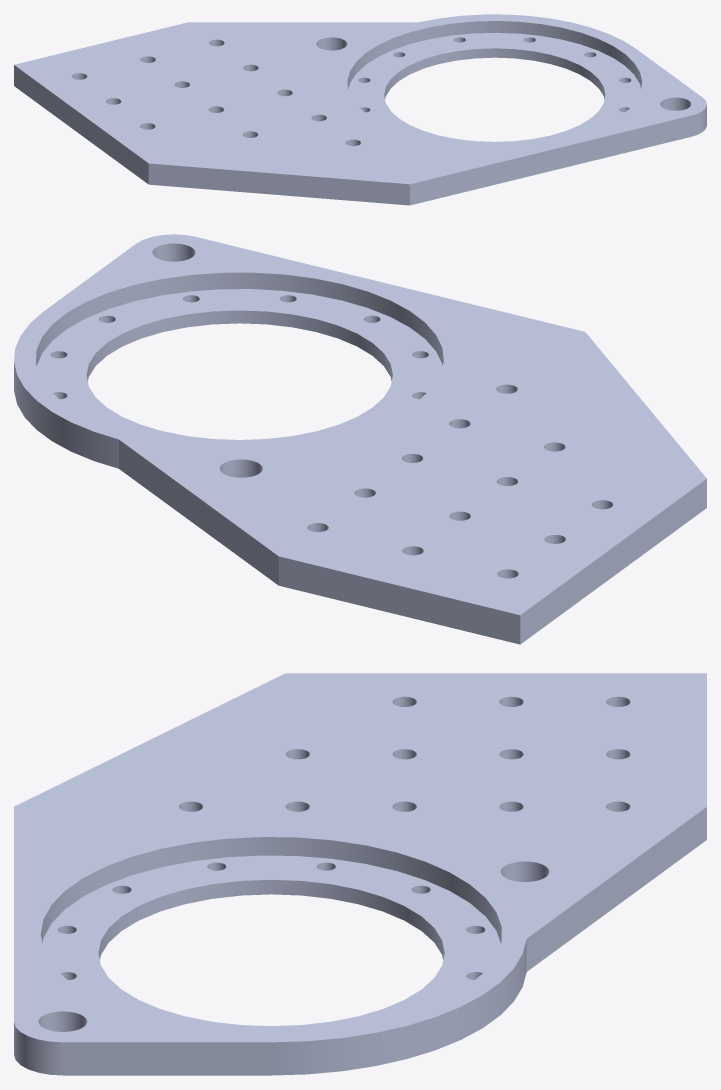
The model's file is Waist plate - right.dae.
3 renders of one model, top to bottom at view 1: azimuth 30°, elevation 25°; view 2: azimuth 150°, elevation 25°; view 3: azimuth 270°, elevation 25°, orthographic. The views are drawn at different scales.
Visible parts, largest first — view 1: Actor0; view 2: Actor0; view 3: Actor0.
Part boxes in pixels (bbox=[...]): Actor0: bbox=[14, 14, 706, 205]; Actor0: bbox=[14, 234, 706, 644]; Actor0: bbox=[14, 673, 706, 1075].
Bounding box in the file's own units: 0.227 × 0.00953 × 0.1802.
